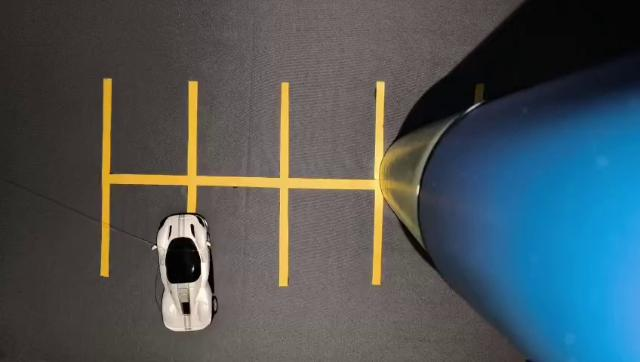toy_car: (143, 196, 243, 352)
